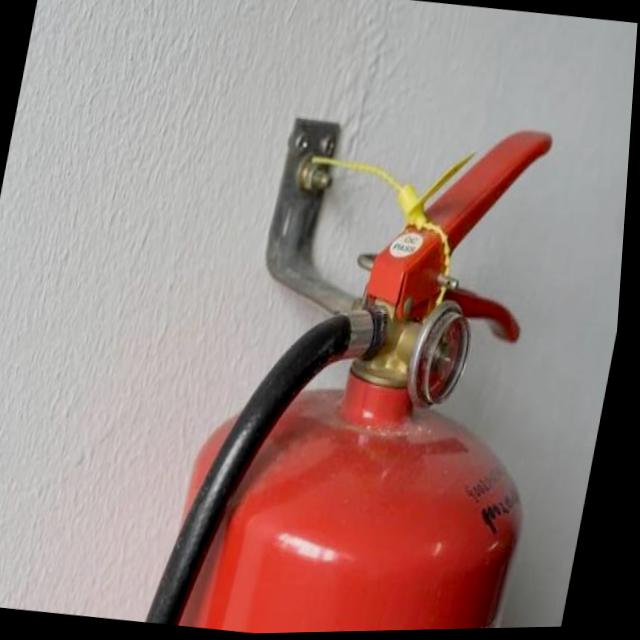FireExtinguisher: (146, 86, 607, 637)
